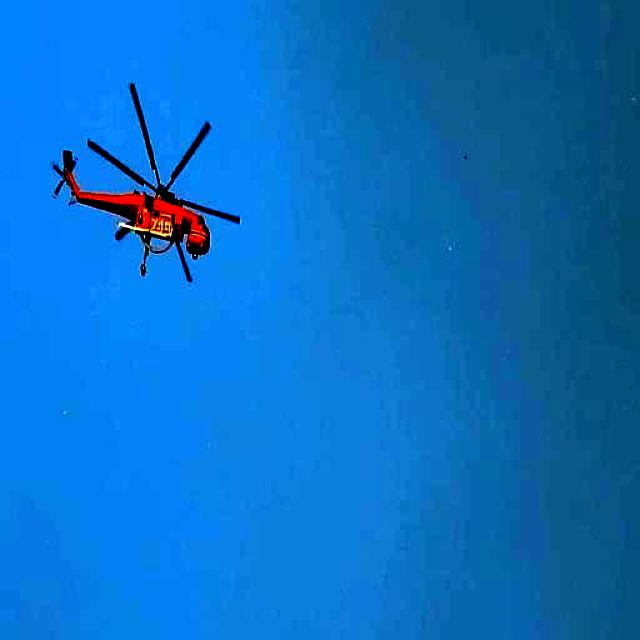drone: (34, 80, 280, 289)
